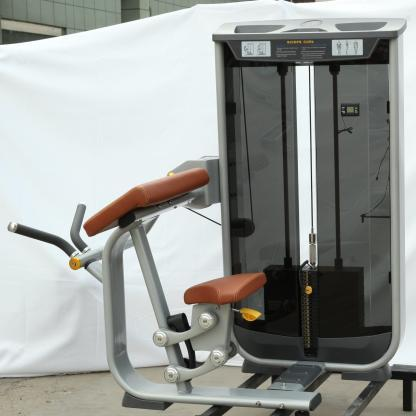arm curl machine: (8, 167, 416, 416)
